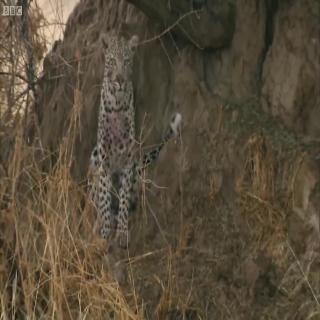Leopard: (71, 33, 180, 256)
